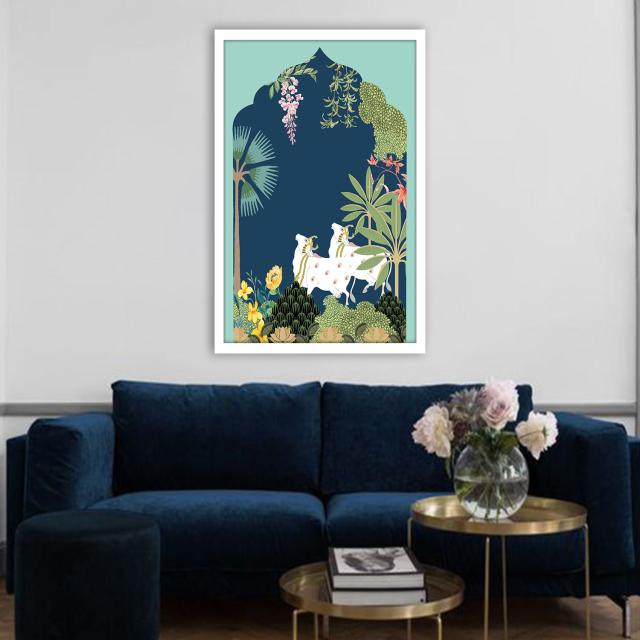painting: (213, 25, 426, 353)
